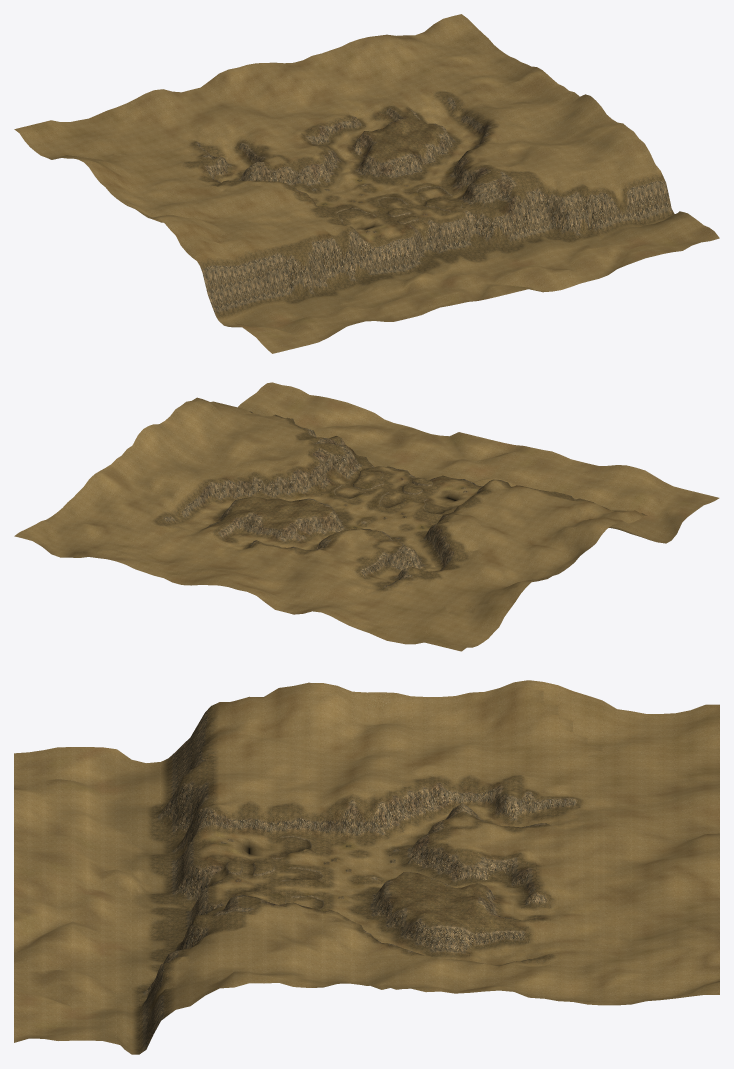
Rendered from Mission6_Zone01.glb.
3 views of the same model, one above another, from view 1: azimuth 30°, elevation 25°; view 2: azimuth 150°, elevation 25°; view 3: azimuth 270°, elevation 25° (orthographic). The views are drawn at different scales.
Bounding box in the file's own units: 384 × 51.58 × 384.
21 materials, 21 textured.
